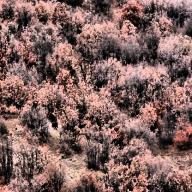boar: (52, 119, 60, 128)
